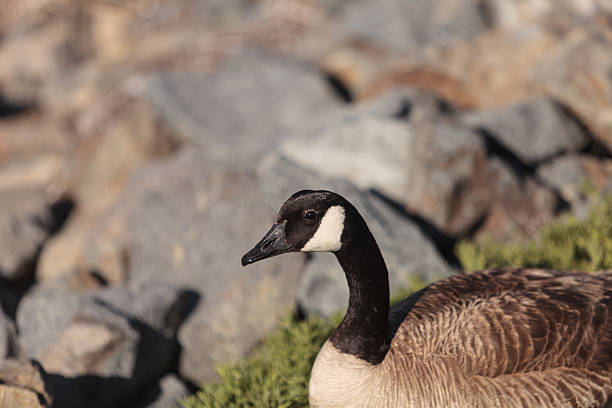goose: (228, 185, 612, 408)
